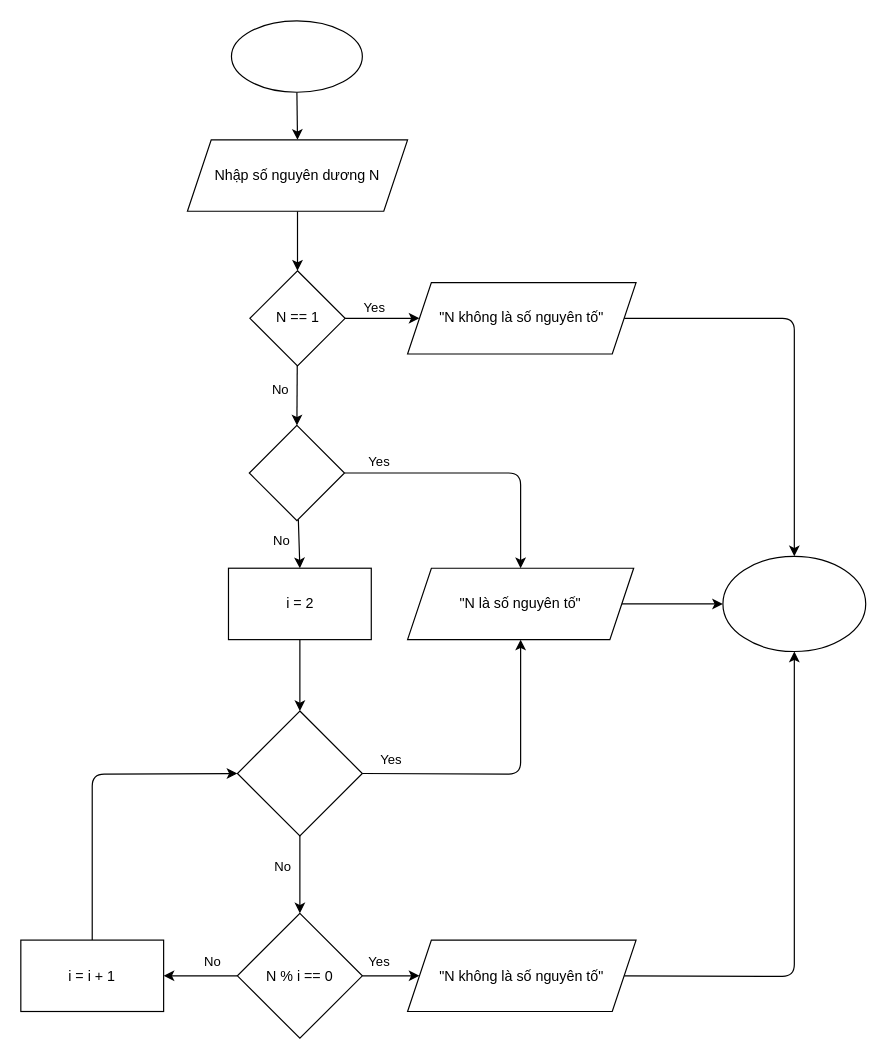
Image size: 887x1059. Some labels were removed from this diagram. The shapes that lost their labels are listed below. From the top down, each one's centre as x and y in pixels, then its label:
At pixel 296 56: "Bắt đầu".
At pixel 296 472: "N < 4".
At pixel 794 603: "Kết thúc".
At pixel 299 773: "i > sqrt(N)".
